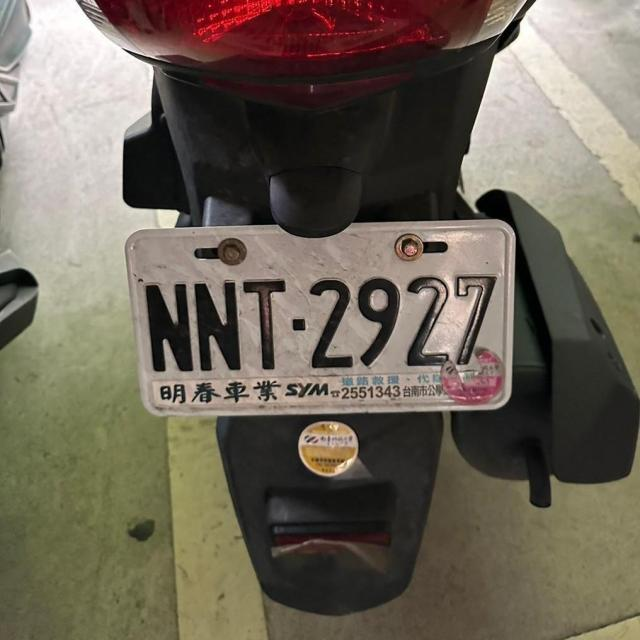W: (120, 211, 528, 427)
